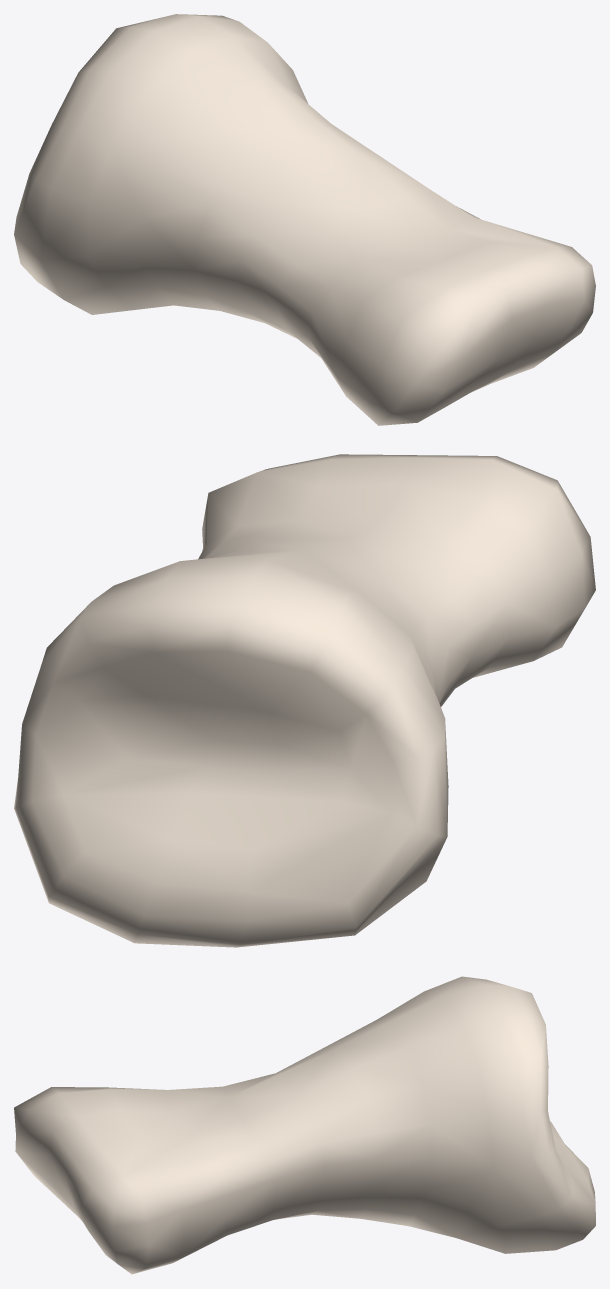
Rendered from left_toe_3_middle.glb.
3 renders of one model, top to bottom at view 1: azimuth 30°, elevation 25°; view 2: azimuth 150°, elevation 25°; view 3: azimuth 270°, elevation 25°, orthographic. The views are drawn at different scales.
Visible parts, largest first — view 1: Middle phalanx of third finger of foot.r; view 2: Middle phalanx of third finger of foot.r; view 3: Middle phalanx of third finger of foot.r.
Boxes of the visible parts, box(x1,y1,x2,y2) form: Middle phalanx of third finger of foot.r: box(14, 14, 595, 425); Middle phalanx of third finger of foot.r: box(14, 454, 595, 947); Middle phalanx of third finger of foot.r: box(14, 976, 595, 1274).
Bounding box in the file's own units: 0.00695 × 0.00461 × 0.0105.
